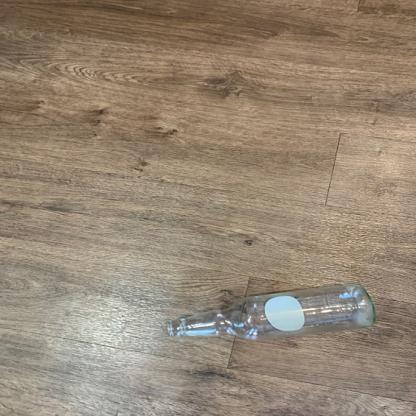trash: (166, 282, 378, 342)
